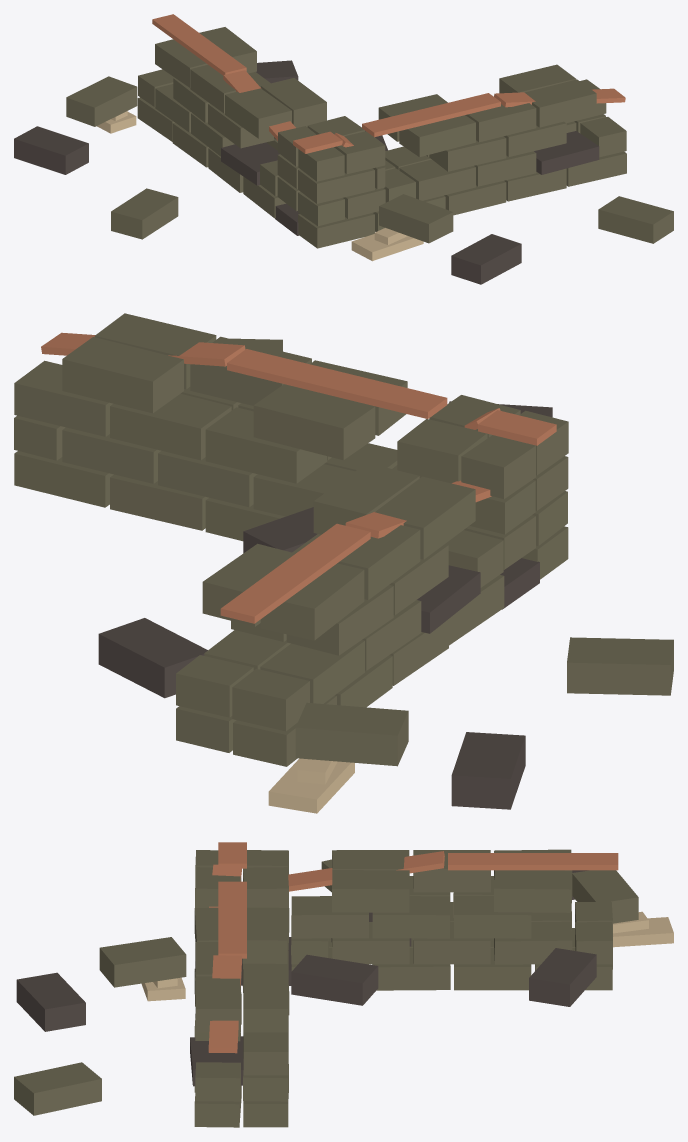
The model's file is SM_SacosEsquina_v3_Tablon_e1_Danado_LOD0.fbx.
3 renders of one model, top to bottom at view 1: azimuth 30°, elevation 25°; view 2: azimuth 150°, elevation 25°; view 3: azimuth 270°, elevation 25°, orthographic. The views are drawn at different scales.
Parts seen in each view (by area): view 1: SM_sacos_piezas_v13_LOD0; view 2: SM_sacos_piezas_v13_LOD0; view 3: SM_sacos_piezas_v13_LOD0.
Boxes of the visible parts, x1,y1,x2,y2 form: SM_sacos_piezas_v13_LOD0: (14, 14, 673, 284); SM_sacos_piezas_v13_LOD0: (14, 313, 673, 813); SM_sacos_piezas_v13_LOD0: (14, 842, 673, 1127).
Bounding box in the file's own units: 6.34 × 1.26 × 6.91.
